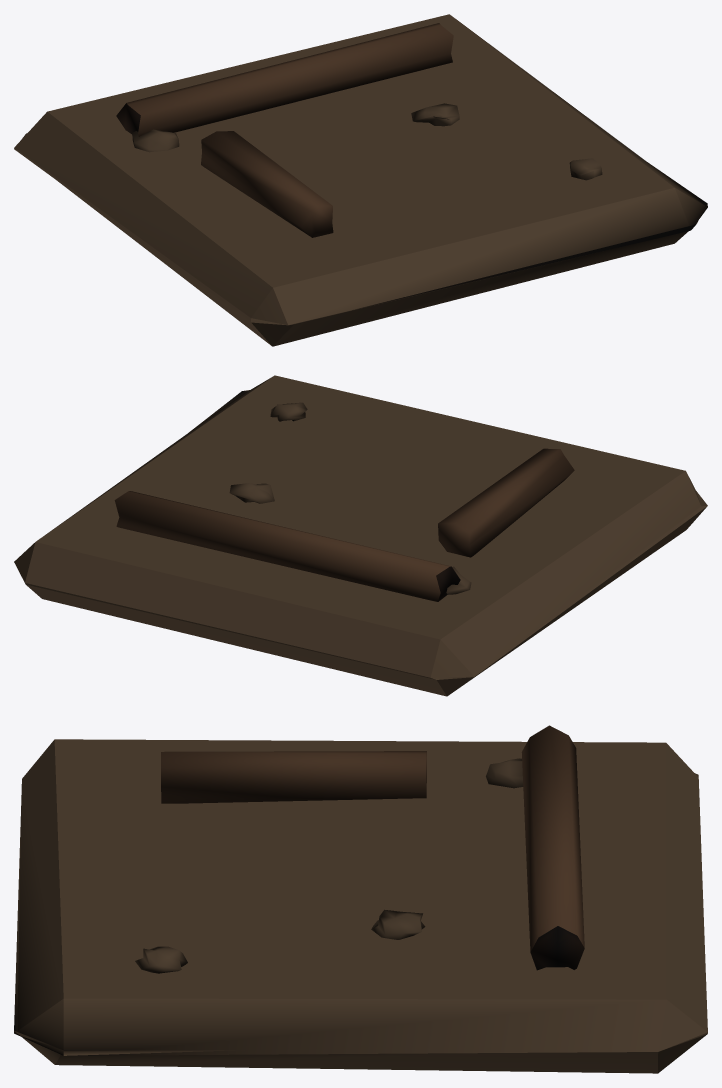
The model's file is floor_region1_v3.glb.
The picture shows the model from 3 angles, top to bottom: view 1: azimuth 30°, elevation 25°; view 2: azimuth 150°, elevation 25°; view 3: azimuth 270°, elevation 25°; orthographic projection. The views are drawn at different scales.
Visible parts, largest first — view 1: floor_region1_v3; view 2: floor_region1_v3; view 3: floor_region1_v3.
Part boxes in pixels (x1,y1,x2,y2): floor_region1_v3: [14, 14, 707, 346]; floor_region1_v3: [14, 375, 707, 696]; floor_region1_v3: [14, 725, 707, 1073].
Bounding box in the file's own units: 1.02 × 0.1926 × 1.01.
